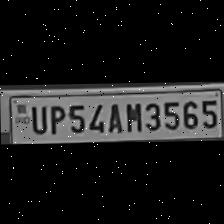3: (142, 98, 160, 130)
4: (85, 99, 105, 132)
5: (64, 98, 86, 132), (159, 96, 179, 130), (198, 96, 218, 128)
6: (178, 96, 198, 128)
A: (102, 98, 122, 132)
M: (122, 98, 142, 132)
P: (46, 100, 64, 134)
U: (27, 102, 47, 133)
